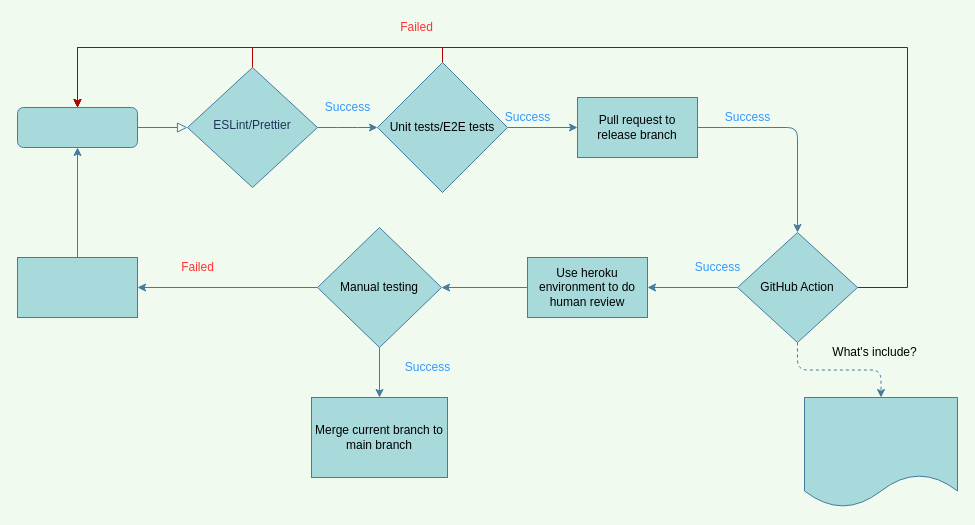
This 975x525 diagram has some shape labels left out. The shapes that lost their labels are listed below. From the top down, each one's centre as x and y in pixels, then its label:
[77,127]: Code locally
[77,287]: Create issue
[881,452]: ESLint Codacy check Unit Test/E2E test JsDoc
